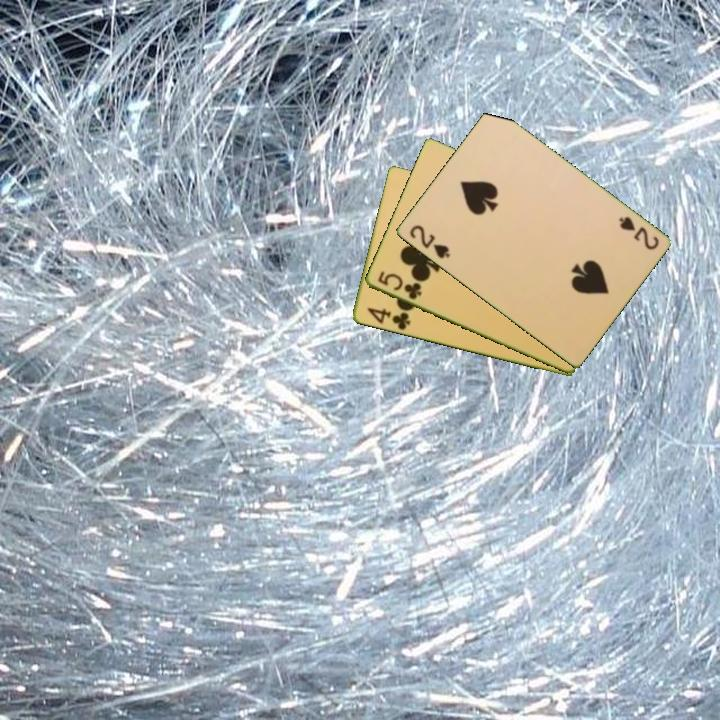2s: (405, 221, 453, 262), (615, 213, 662, 253)
4c: (363, 304, 413, 333)
5c: (374, 268, 424, 303)
